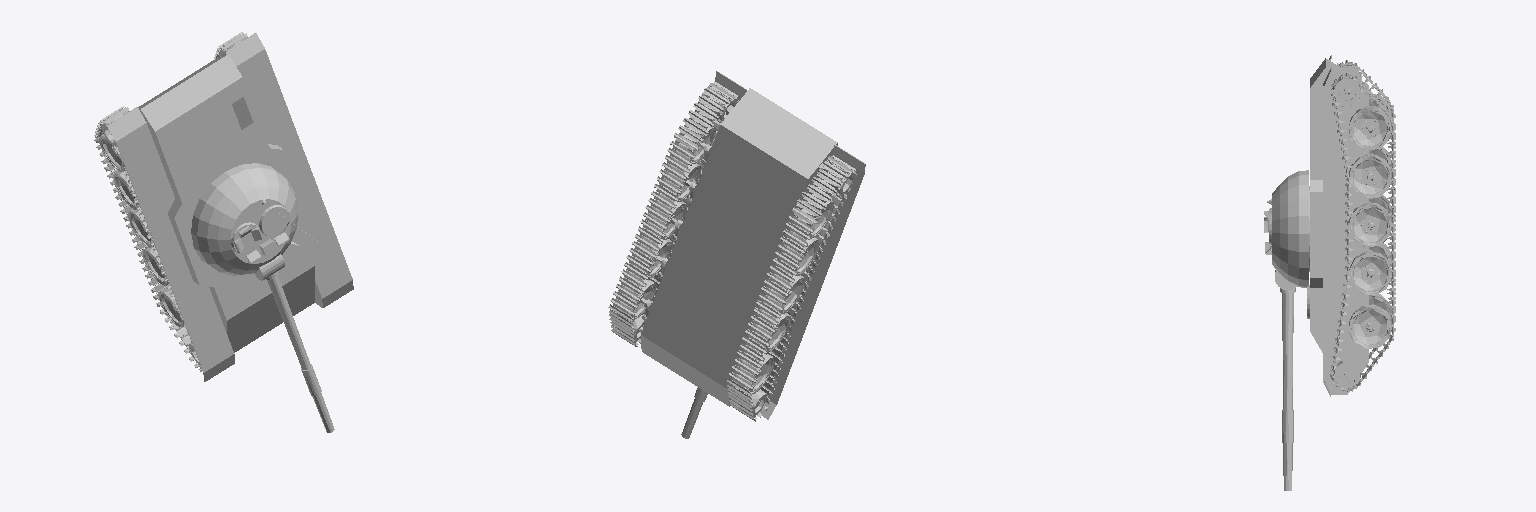
The model's file is tank.obj.
3 renders of one model, left to right at view 1: azimuth 30°, elevation 25°; view 2: azimuth 150°, elevation 25°; view 3: azimuth 270°, elevation 25°, orthographic.
Bounding box in the file's own units: 5.28 × 8.1 × 4.3.